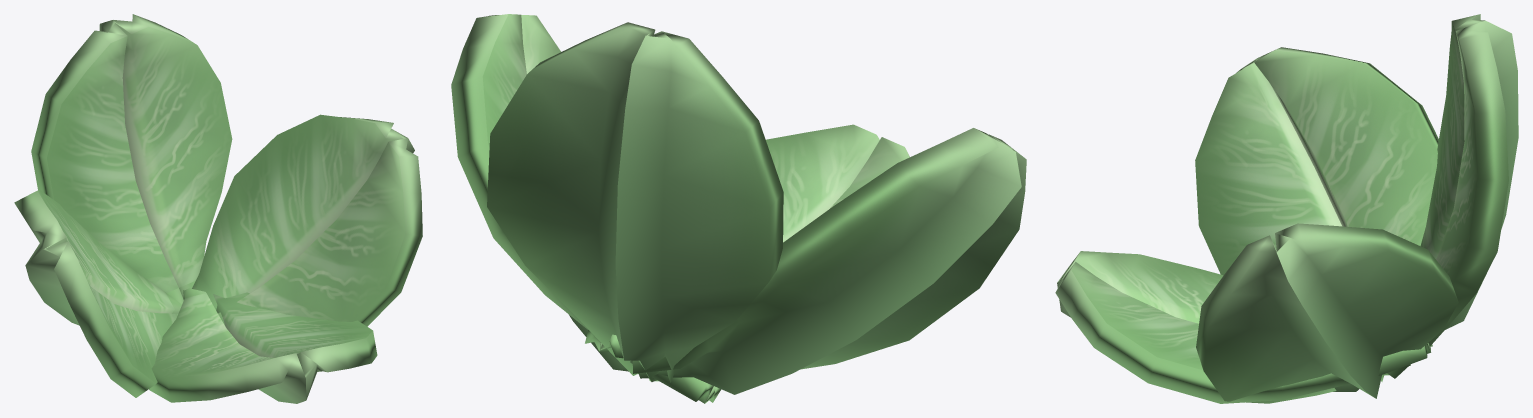
Rendered from Flower.fbx.
The picture shows the model from 3 angles, left to right: view 1: azimuth 30°, elevation 25°; view 2: azimuth 150°, elevation 25°; view 3: azimuth 270°, elevation 25°; orthographic projection. The views are drawn at different scales.
Visible parts, largest first — view 1: pPlane27; view 2: pPlane27; view 3: pPlane27.
Part boxes in pixels (left/top/right/bottom): pPlane27: left=14, top=14, right=422, bottom=403; pPlane27: left=451, top=14, right=1026, bottom=403; pPlane27: left=1055, top=14, right=1518, bottom=403.
Size of the model in its own units: 0.9704 by 0.7183 by 0.8518.
